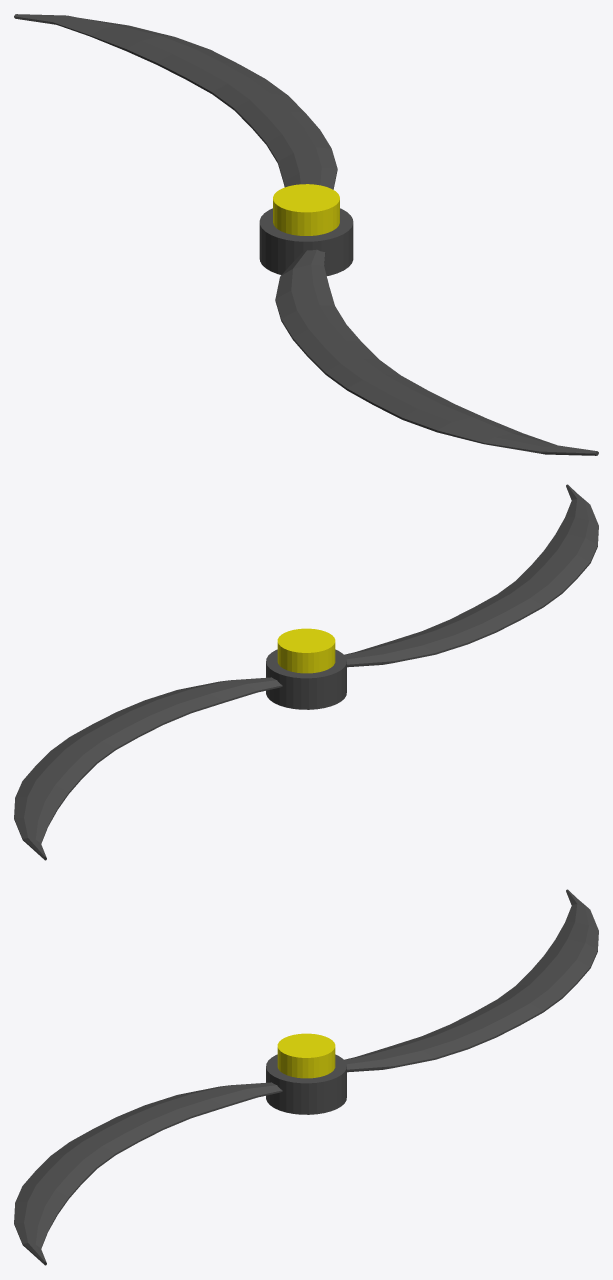
The model's file is rotary_sickle_reverse.fbx.
3 renders of one model, top to bottom at view 1: azimuth 30°, elevation 25°; view 2: azimuth 150°, elevation 25°; view 3: azimuth 330°, elevation 25°, orthographic. The views are drawn at different scales.
Visible parts, largest first — view 1: 立方体, 円柱, 円柱.001; view 2: 立方体, 円柱, 円柱.001; view 3: 立方体, 円柱, 円柱.001.
Boxes of the visible parts, x1,y1,x2,y2 form: 立方体: [14, 14, 598, 455]; 円柱: [259, 208, 353, 275]; 円柱.001: [273, 184, 339, 235]; 立方体: [14, 484, 598, 860]; 円柱: [266, 649, 346, 709]; 円柱.001: [277, 628, 335, 673]; 立方体: [14, 889, 598, 1265]; 円柱: [266, 1054, 346, 1114]; 円柱.001: [277, 1033, 335, 1078].
Size of the model in its own units: 4.41 by 0.99 by 17.68.
